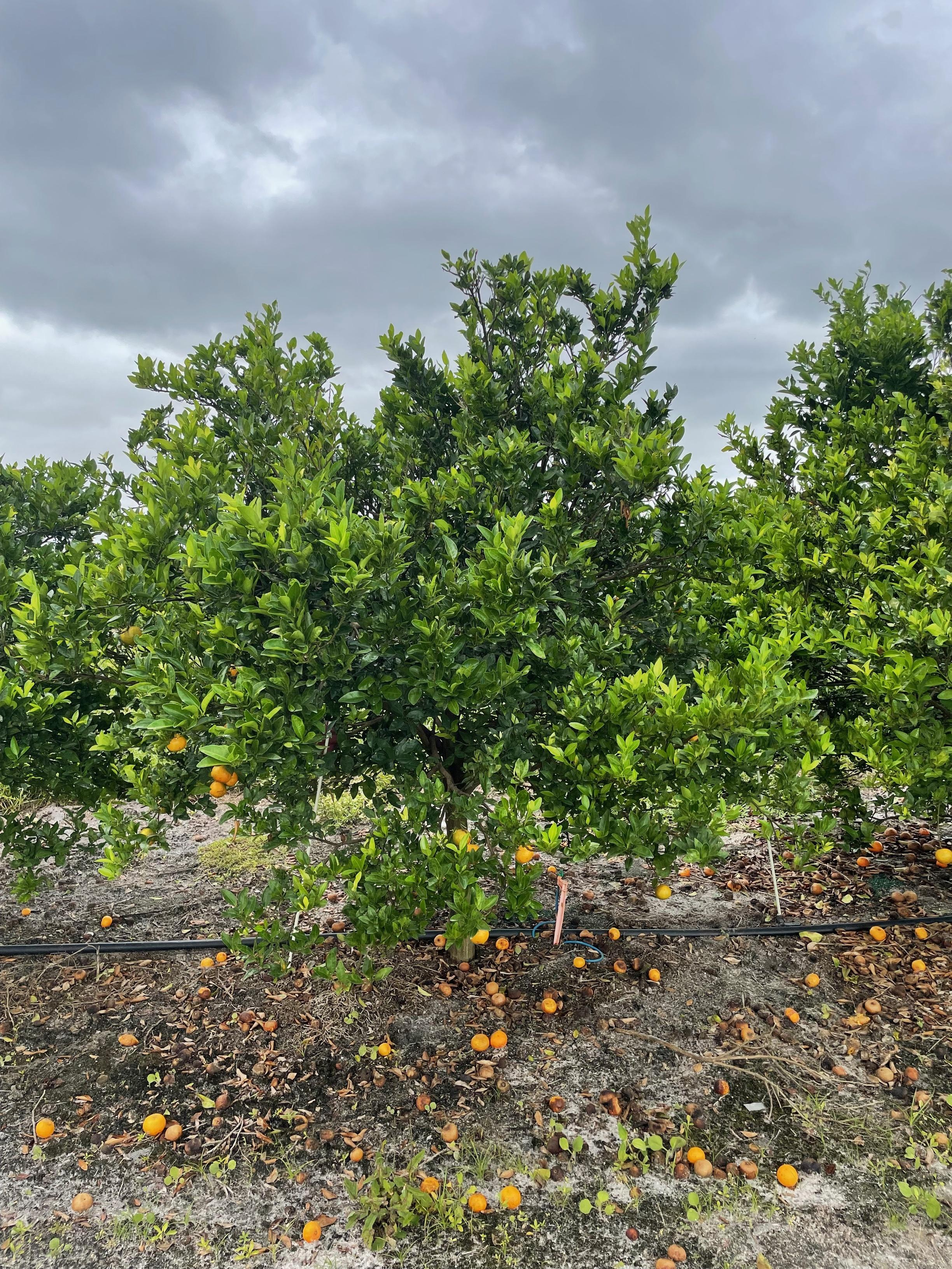fruit_on_ground: (117, 621, 147, 649), (163, 731, 189, 755), (219, 661, 244, 685), (208, 762, 234, 785), (512, 843, 536, 865), (136, 826, 158, 848), (451, 826, 473, 848), (219, 767, 241, 789), (460, 840, 483, 860), (468, 926, 490, 946), (933, 845, 952, 867), (207, 780, 228, 799)
fruit_on_tree: (498, 1183, 522, 1209), (775, 1163, 799, 1188), (33, 1116, 57, 1141), (141, 1112, 165, 1136), (70, 1190, 94, 1213), (418, 1175, 443, 1196), (466, 1190, 488, 1213), (488, 1029, 511, 1051), (665, 1241, 688, 1262), (301, 1220, 322, 1243), (469, 1031, 491, 1052), (162, 1120, 184, 1141), (652, 881, 673, 902), (930, 1129, 951, 1149), (740, 1159, 760, 1180), (439, 1122, 460, 1142), (913, 1089, 934, 1108), (413, 1091, 432, 1111), (862, 995, 882, 1014), (602, 1097, 623, 1115), (600, 1091, 621, 1109), (873, 1064, 894, 1082), (117, 1031, 140, 1047), (694, 1157, 713, 1176), (686, 1145, 705, 1164), (712, 1077, 731, 1096), (901, 1064, 921, 1082), (652, 1255, 677, 1269), (550, 1165, 569, 1183), (548, 1093, 566, 1112), (434, 979, 453, 997), (853, 1010, 873, 1027), (489, 991, 510, 1007), (734, 1019, 752, 1037), (540, 997, 558, 1015), (184, 1140, 203, 1157), (493, 935, 512, 952), (476, 1064, 496, 1080), (348, 1146, 366, 1163), (375, 1040, 392, 1058), (803, 971, 821, 988), (868, 925, 887, 941), (782, 1005, 799, 1022), (910, 957, 928, 973), (674, 1163, 690, 1180), (831, 1063, 849, 1078), (260, 1017, 278, 1032), (195, 984, 213, 999), (882, 824, 900, 839), (213, 947, 229, 963), (612, 957, 628, 973), (432, 932, 448, 948), (324, 887, 341, 902), (623, 1226, 640, 1241), (727, 876, 744, 891), (98, 914, 115, 929), (628, 1184, 643, 1200), (725, 1160, 740, 1176), (571, 954, 587, 969), (484, 980, 500, 995), (913, 925, 929, 940), (856, 853, 872, 868), (888, 1107, 905, 1121), (903, 888, 920, 902), (914, 825, 931, 839), (844, 1040, 859, 1055), (606, 926, 622, 940), (331, 918, 347, 932), (868, 838, 884, 852), (780, 848, 795, 862), (456, 958, 471, 972), (809, 880, 824, 894), (701, 864, 716, 878), (648, 967, 663, 981), (802, 1155, 818, 1168), (542, 987, 558, 1000), (899, 828, 915, 841), (199, 956, 215, 969), (903, 839, 920, 851), (732, 858, 747, 871), (584, 1102, 599, 1115), (404, 1066, 419, 1079), (889, 889, 904, 902), (582, 887, 597, 900), (677, 865, 692, 878), (410, 905, 424, 918), (544, 863, 558, 876), (631, 956, 644, 970), (828, 869, 842, 881), (19, 905, 32, 917), (903, 851, 917, 862)
